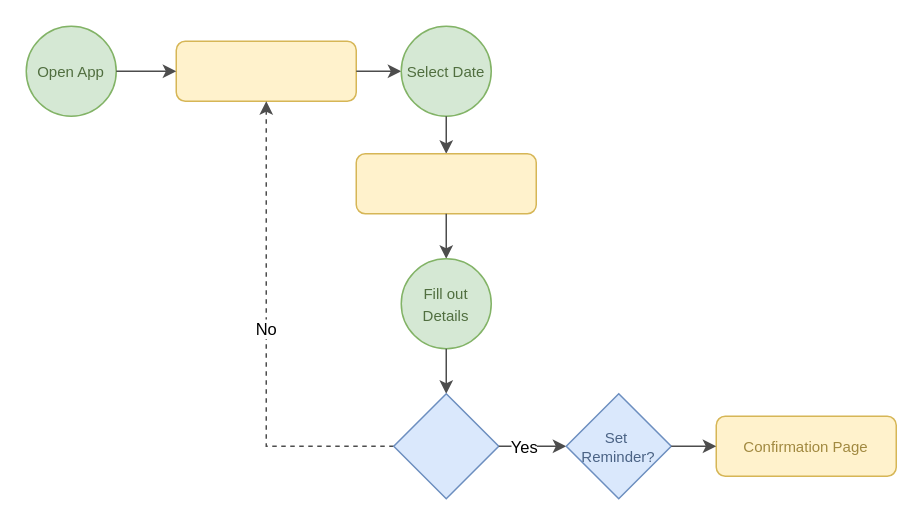
The diagram is 923 pixels wide and 525 high, and some of its shapes have lost their labels. The shapes that lost their labels are listed below. From the top down, each one's centre as x and y in pixels, then its label:
(x=265, y=70): Home Page
(x=445, y=183): Event Creation Page
(x=445, y=445): Add to Calendar?
